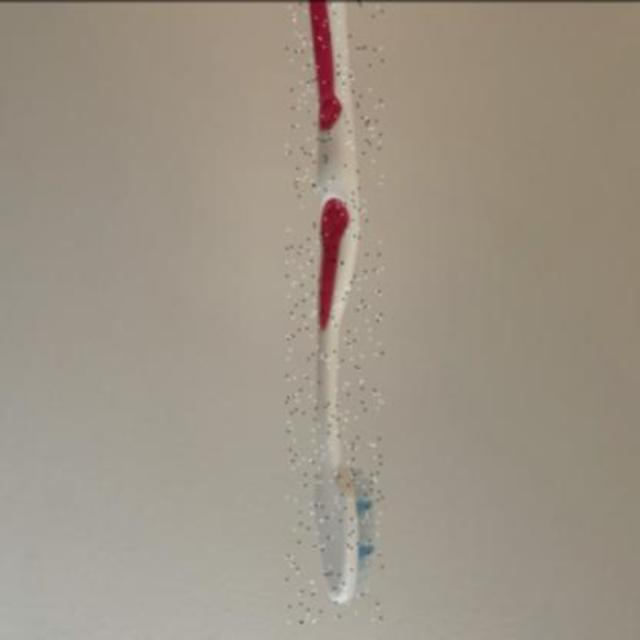toothbrush: (287, 1, 383, 622)
